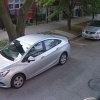Car: (3, 30, 74, 88)
